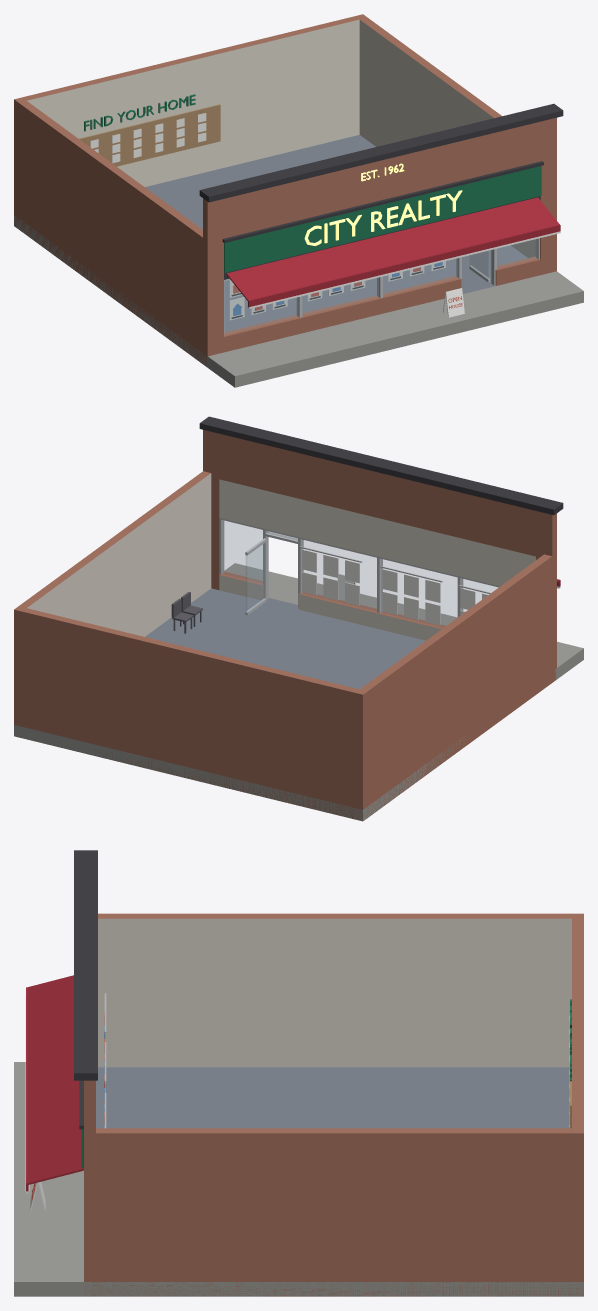
Rendered from Agency_Shell.glb.
3 views of the same model, one above another, from view 1: azimuth 30°, elevation 25°; view 2: azimuth 150°, elevation 25°; view 3: azimuth 270°, elevation 25° (orthographic). The views are drawn at different scales.
Parts seen in each view (by area): view 1: Agency_Shell; view 2: Agency_Shell; view 3: Agency_Shell.
Part boxes in pixels (x1=…): Agency_Shell: x1=14, y1=14, x2=583, y2=387; Agency_Shell: x1=14, y1=416, x2=583, y2=821; Agency_Shell: x1=14, y1=850, x2=583, y2=1296.
Size of what is drawn, in the model's own units: 13.2 by 6.21 by 14.25.
